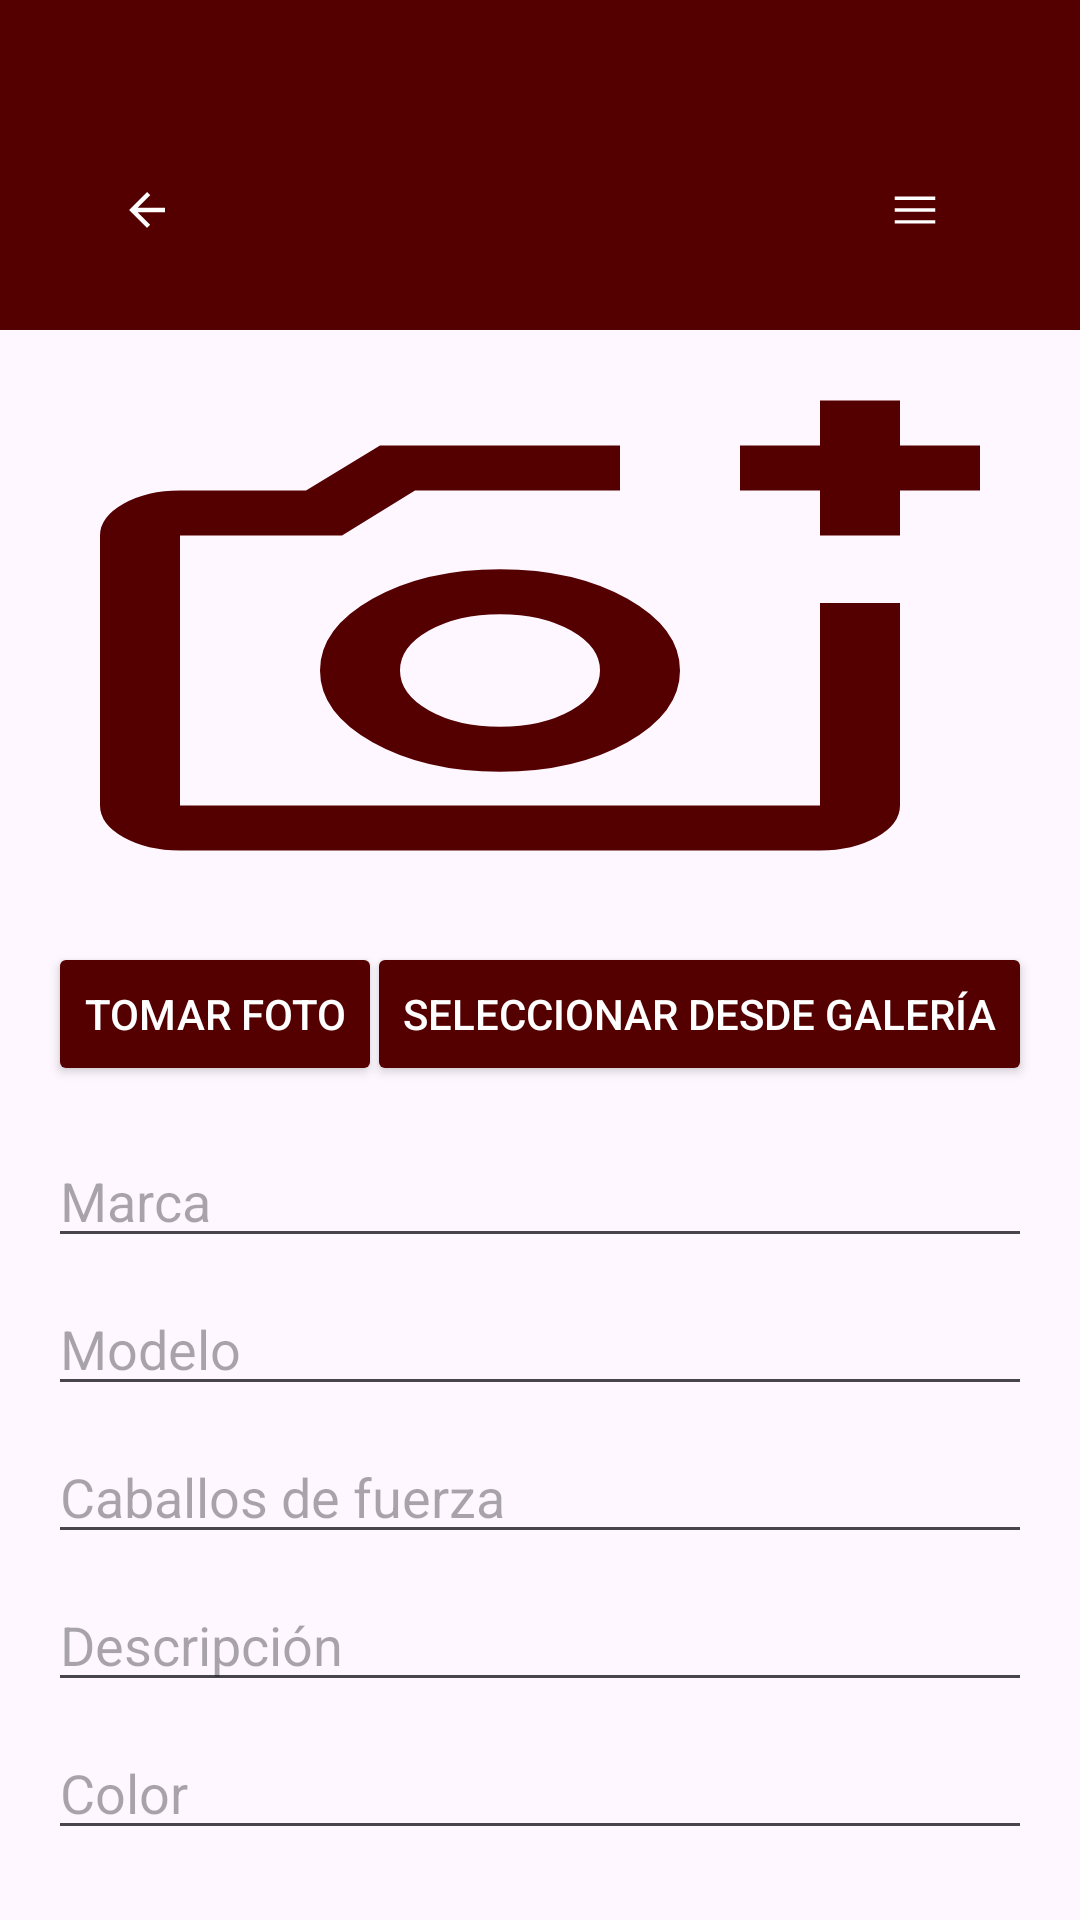

Screen size 1080w x 1920h. Icon name, then its box in pixels as (x1, y1, x2, y2):
Menú: (894, 196, 936, 224)
Volver: (129, 192, 165, 228)
